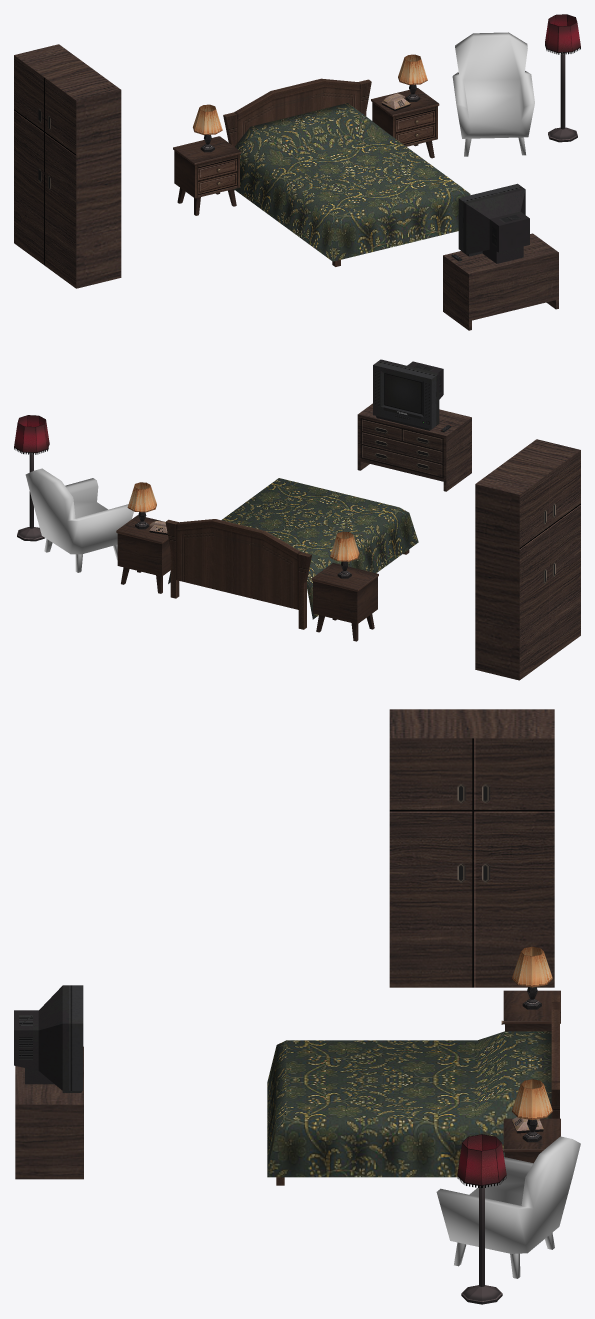
File: motel.obj
The picture shows the model from 3 angles, top to bottom: view 1: azimuth 30°, elevation 25°; view 2: azimuth 150°, elevation 25°; view 3: azimuth 270°, elevation 25°; orthographic projection. The views are drawn at different scales.
Visible parts, largest first — view 1: Bed, Cube, Chair, Drawers, Television, Nightstand.001, Nightstand, Floor_Lamp, Lamp.001, Lamp; view 2: Cube, Bed, Drawers, Chair, Television, Nightstand.001, Nightstand, Floor_Lamp, Lamp, Lamp.001; view 3: Cube, Bed, Chair, Drawers, Television, Floor_Lamp, Nightstand.001, Nightstand, Lamp, Lamp.001.
Boxes of the visible parts, x1=… form: Bed: x1=223, y1=78, x2=470, y2=266; Cube: x1=14, y1=44, x2=121, y2=288; Chair: x1=452, y1=32, x2=534, y2=156; Drawers: x1=443, y1=233, x2=558, y2=330; Television: x1=458, y1=183, x2=529, y2=263; Nightstand.001: x1=173, y1=136, x2=241, y2=215; Nightstand: x1=371, y1=88, x2=439, y2=158; Floor_Lamp: x1=545, y1=14, x2=580, y2=142; Lamp.001: x1=193, y1=104, x2=222, y2=152; Lamp: x1=398, y1=54, x2=427, y2=101; Cube: x1=475, y1=439, x2=580, y2=680; Bed: x1=165, y1=478, x2=418, y2=629; Drawers: x1=357, y1=403, x2=471, y2=491; Chair: x1=25, y1=468, x2=133, y2=572; Television: x1=373, y1=359, x2=443, y2=430; Nightstand.001: x1=311, y1=563, x2=378, y2=641; Nightstand: x1=116, y1=515, x2=170, y2=593; Floor_Lamp: x1=14, y1=415, x2=49, y2=541; Lamp: x1=127, y1=482, x2=156, y2=529; Lamp.001: x1=330, y1=531, x2=359, y2=578; Cube: x1=389, y1=709, x2=554, y2=987; Bed: x1=267, y1=995, x2=559, y2=1185; Chair: x1=436, y1=1136, x2=580, y2=1278; Drawers: x1=15, y1=1046, x2=83, y2=1179; Television: x1=14, y1=985, x2=83, y2=1092; Floor_Lamp: x1=457, y1=1134, x2=506, y2=1304; Nightstand.001: x1=501, y1=990, x2=560, y2=1031; Nightstand: x1=502, y1=1118, x2=560, y2=1163; Lamp: x1=512, y1=1079, x2=552, y2=1142; Lamp.001: x1=512, y1=946, x2=552, y2=1009.
Bounding box in the file's own units: 5.98 × 2 × 4.12.
